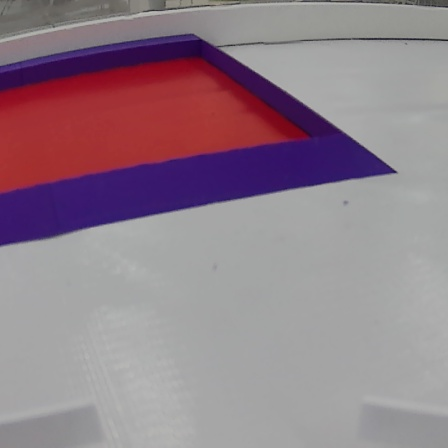red_aim: (0, 33, 445, 245)
